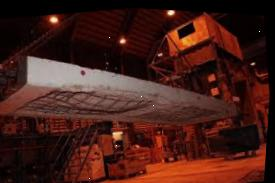spalling: (16, 84, 161, 115)
